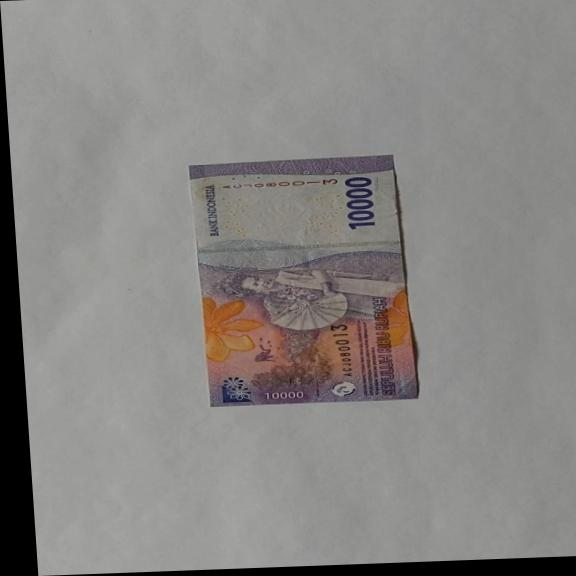Kertas: (187, 153, 420, 407)
